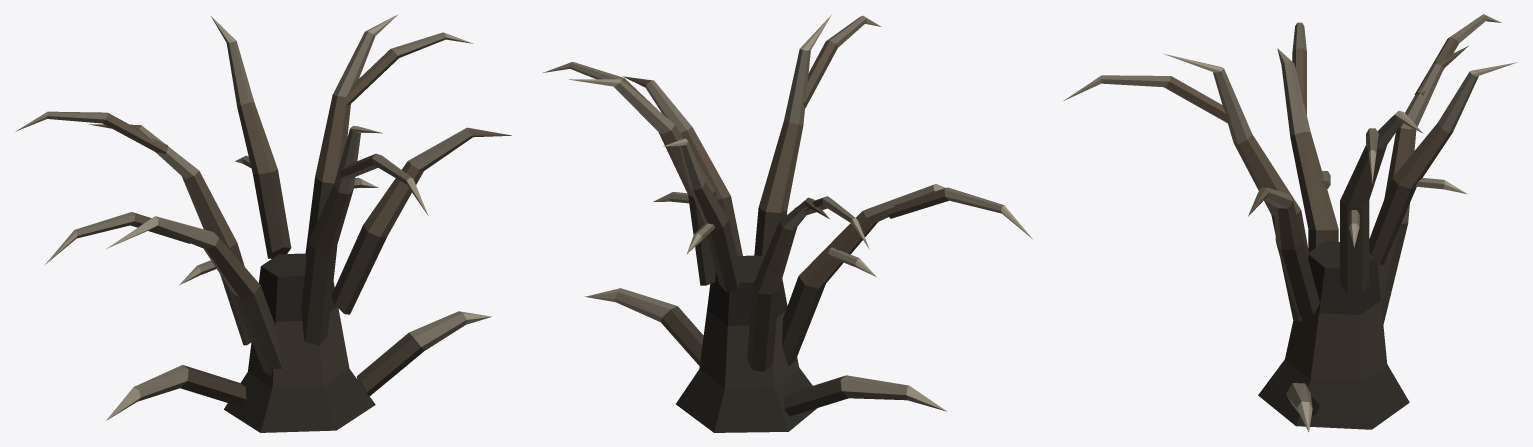
File: thornbrush.gltf
3 views of the same model, side by side, from view 1: azimuth 30°, elevation 25°; view 2: azimuth 150°, elevation 25°; view 3: azimuth 270°, elevation 25° (orthographic). The views are drawn at different scales.
Visible parts, largest first — view 1: thornbrush; view 2: thornbrush; view 3: thornbrush.
Boxes of the visible parts, x1,y1,x2,y2 form: thornbrush: (15,14,511,432); thornbrush: (543,14,1033,432); thornbrush: (1063,14,1517,432).
Bounding box in the file's own units: 0.4194 × 0.2914 × 0.3454.
